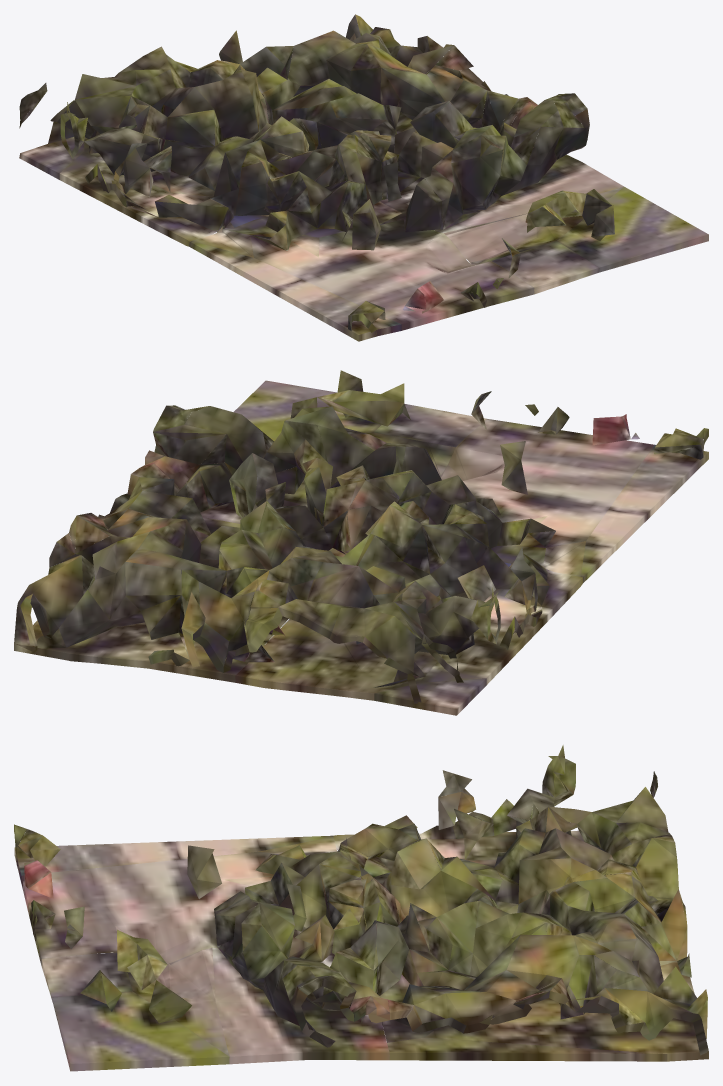
The picture shows the model from 3 angles, top to bottom: view 1: azimuth 30°, elevation 25°; view 2: azimuth 150°, elevation 25°; view 3: azimuth 270°, elevation 25°; orthographic projection. The views are drawn at different scales.
Visible parts, largest first — view 1: Mesh_0; view 2: Mesh_0; view 3: Mesh_0.
Boxes of the visible parts, x1,y1,x2,y2 form: Mesh_0: (19,14,708,341); Mesh_0: (14,370,708,715); Mesh_0: (14,745,708,1071).
Bounding box in the file's own units: 135 × 29.6 × 165.
2 materials, 2 textured.
